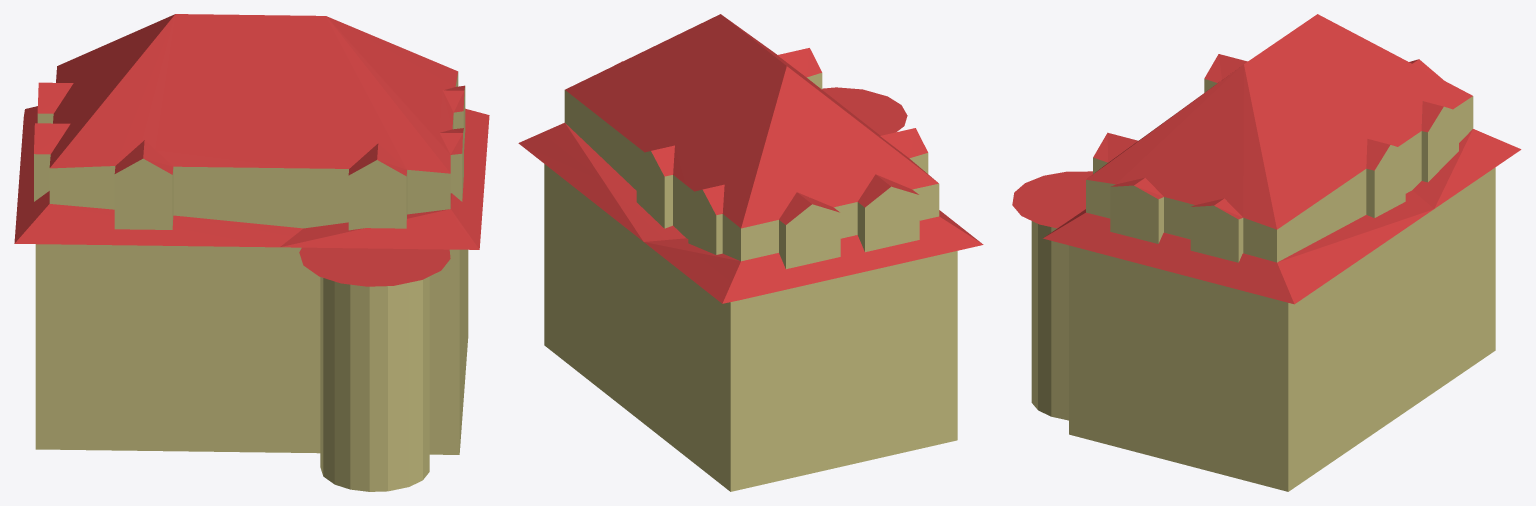
3 renders of one model, left to right at view 1: azimuth 30°, elevation 25°; view 2: azimuth 150°, elevation 25°; view 3: azimuth 270°, elevation 25°, orthographic. The views are drawn at different scales.
Visible parts, largest first — view 1: group_23, group_8, group_3, group_9, group_5, group_17, group_22, group_14, group_12, group_4, group_16, group_15 (+1 smaller); view 2: group_23, group_8, group_3, group_9, group_15, group_13, group_22, group_19, group_21, group_4, group_16, group_14 (+2 smaller); view 3: group_23, group_8, group_3, group_9, group_7, group_11, group_22, group_19, group_21, group_16, group_4.
Boxes of the visible parts, x1,y1,x2,y2 form: group_23: (35,244,468,491); group_8: (49,14,457,173); group_3: (14,106,489,286); group_9: (49,72,458,228); group_5: (114,158,173,229); group_17: (348,160,407,230); group_22: (15,108,488,285); group_14: (34,123,70,154); group_12: (37,82,73,113); group_4: (114,140,173,174); group_16: (348,143,406,176); group_15: (34,154,50,201); group_23: (544,164,957,491); group_8: (565,14,938,228); group_3: (518,87,983,303); group_9: (564,90,939,261); group_15: (857,186,919,252); group_13: (779,204,840,269); group_22: (520,88,980,301); group_19: (636,151,672,228); group_21: (688,189,722,254); group_4: (880,128,927,158); group_16: (777,48,821,77); group_14: (858,174,918,207); group_23: (1031,167,1495,491); group_8: (1086,14,1472,229); group_3: (1012,129,1521,304); group_9: (1086,96,1473,262); group_7: (1110,185,1163,243); group_11: (1190,205,1243,262); group_22: (1019,139,1512,303); group_19: (1366,145,1405,217); group_21: (1421,106,1458,182); group_16: (1093,132,1137,162); group_4: (1204,54,1247,82).
Size of the model in its own units: 20.43 by 19.89 by 15.19.
